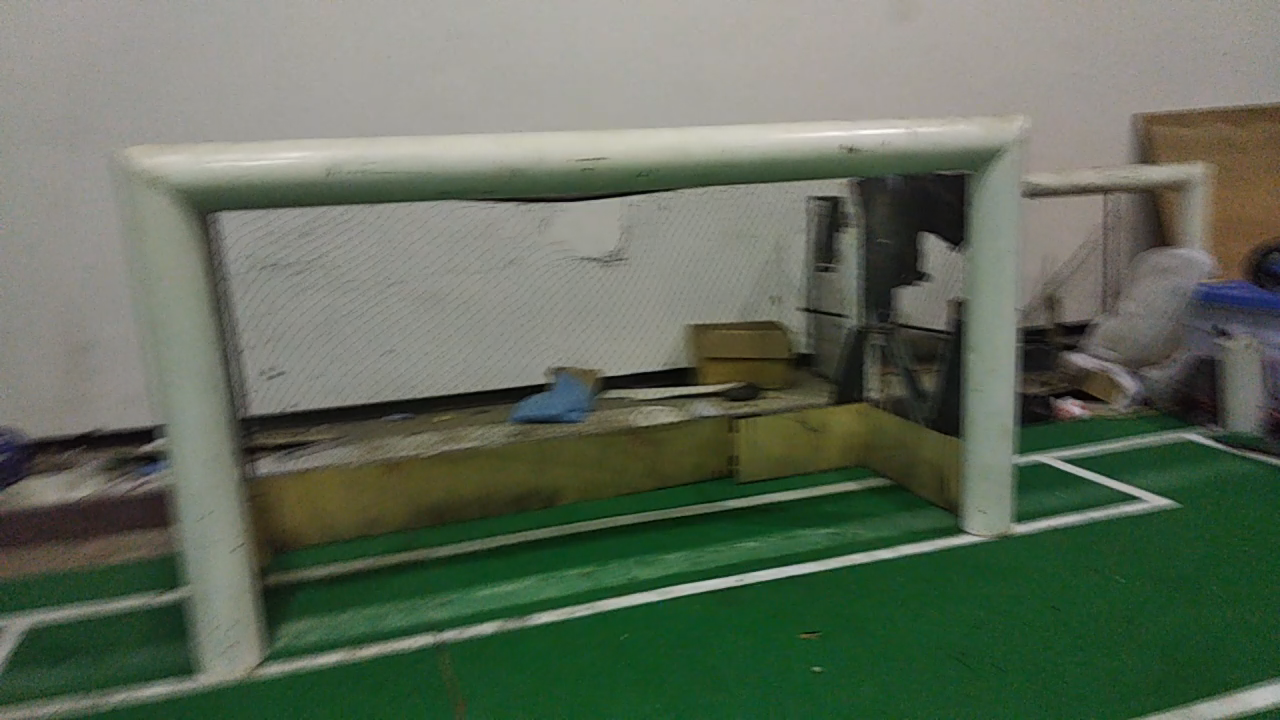gawang: (95, 112, 1036, 694)
